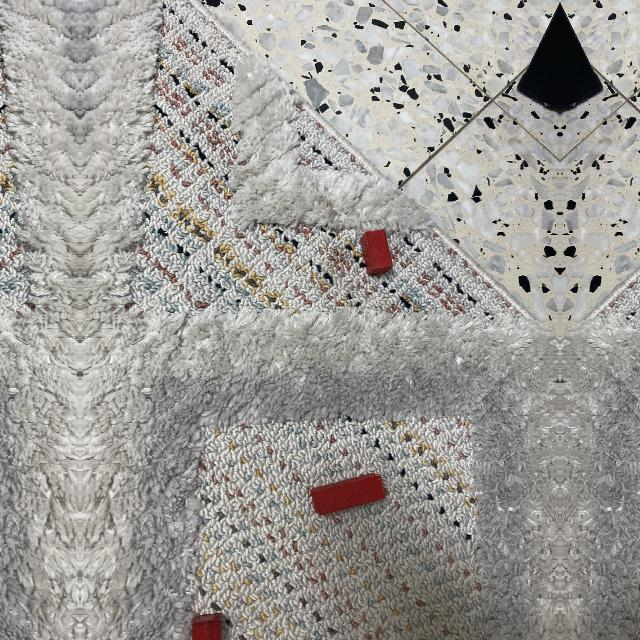red block: (310, 473, 385, 516), (360, 229, 393, 276)
red cube: (191, 612, 226, 640)
